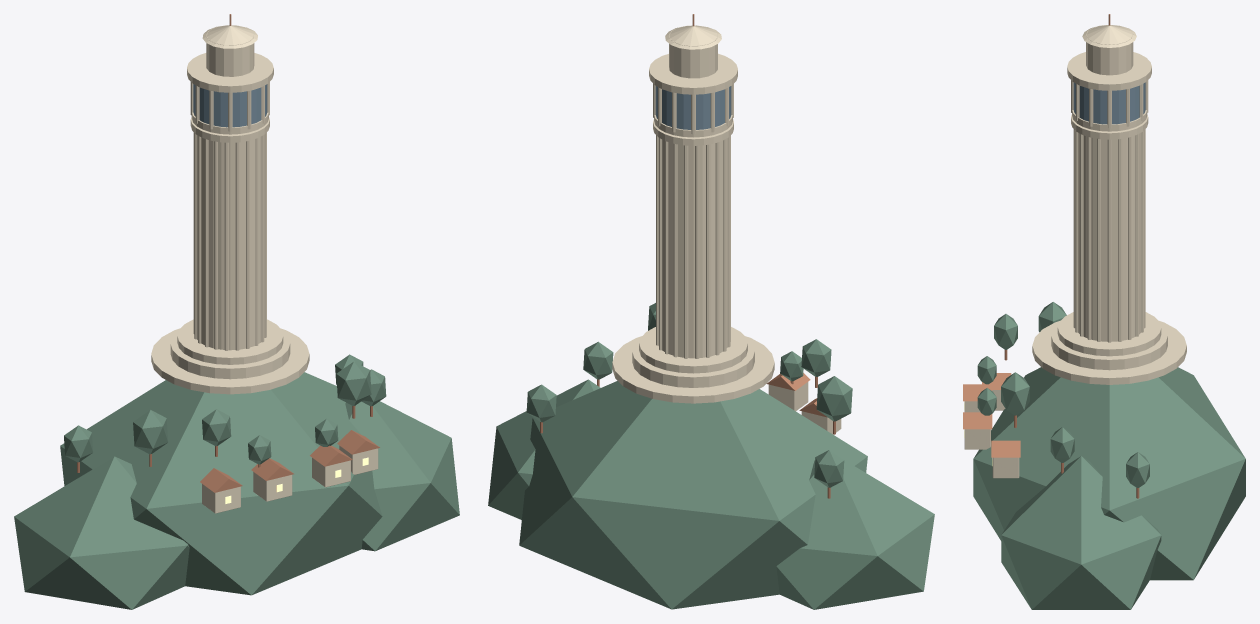
The model's file is sf4_coit_hill_complete.glb.
3 renders of one model, left to right at view 1: azimuth 30°, elevation 25°; view 2: azimuth 150°, elevation 25°; view 3: azimuth 270°, elevation 25°, orthographic. The views are drawn at different scales.
Parts seen in each view (by area): view 1: sf4_coit_hill_complete__sf4-mist-sage, sf4_coit_hill_complete__sf3-warm-ivory, sf4_coit_hill_complete__sf3-burnished-copper, sf4_coit_hill_complete__sf3-dusty-blue; view 2: sf4_coit_hill_complete__sf4-mist-sage, sf4_coit_hill_complete__sf3-warm-ivory, sf4_coit_hill_complete__sf3-dusty-blue, sf4_coit_hill_complete__sf3-burnished-copper; view 3: sf4_coit_hill_complete__sf4-mist-sage, sf4_coit_hill_complete__sf3-warm-ivory, sf4_coit_hill_complete__sf3-dusty-blue, sf4_coit_hill_complete__sf3-burnished-copper.
Part boxes in pixels (x1=…): sf4_coit_hill_complete__sf4-mist-sage: x1=14, y1=354, x2=459, y2=609; sf4_coit_hill_complete__sf3-warm-ivory: x1=151, y1=25, x2=378, y2=513; sf4_coit_hill_complete__sf3-burnished-copper: x1=77, y1=14, x2=379, y2=492; sf4_coit_hill_complete__sf3-dusty-blue: x1=193, y1=84, x2=267, y2=127; sf4_coit_hill_complete__sf4-mist-sage: x1=488, y1=303, x2=934, y2=609; sf4_coit_hill_complete__sf3-warm-ivory: x1=612, y1=25, x2=841, y2=434; sf4_coit_hill_complete__sf3-dusty-blue: x1=655, y1=86, x2=731, y2=129; sf4_coit_hill_complete__sf3-burnished-copper: x1=540, y1=14, x2=835, y2=498; sf4_coit_hill_complete__sf4-mist-sage: x1=973, y1=302, x2=1245, y2=609; sf4_coit_hill_complete__sf3-warm-ivory: x1=964, y1=25, x2=1186, y2=478; sf4_coit_hill_complete__sf3-dusty-blue: x1=1073, y1=82, x2=1145, y2=124; sf4_coit_hill_complete__sf3-burnished-copper: x1=963, y1=14, x2=1139, y2=498.
Bounding box in the file's own units: 50.47 × 59.2 × 30.01.
